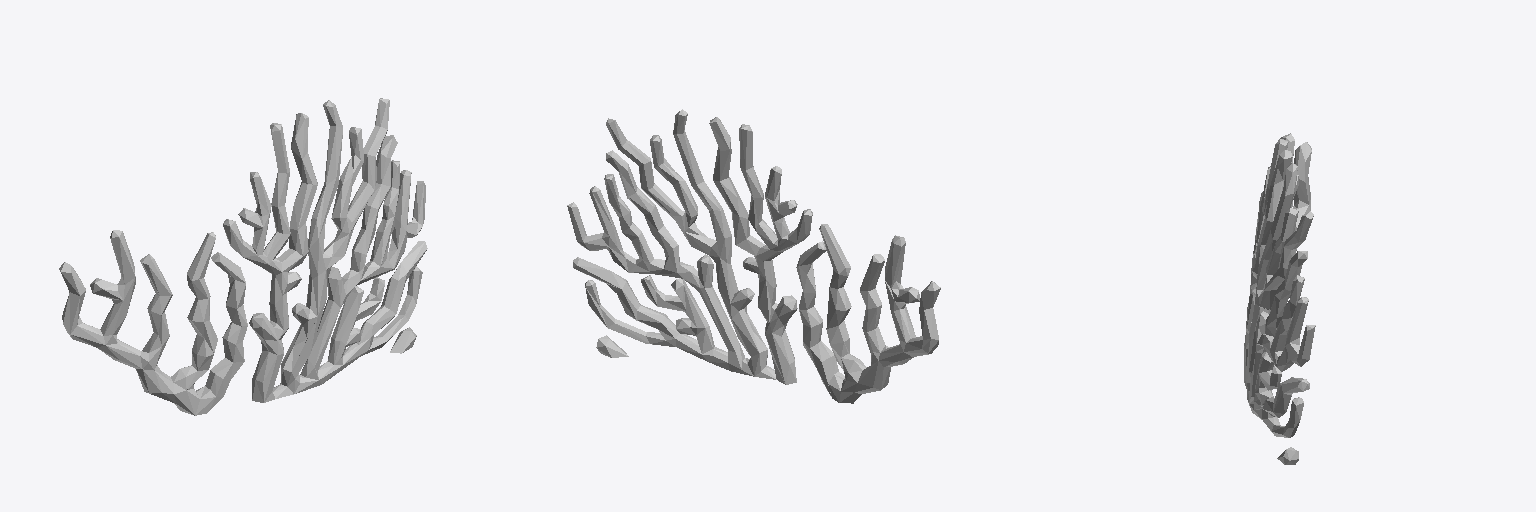
Rendered from Coral.obj.
3 views of the same model, side by side, from view 1: azimuth 30°, elevation 25°; view 2: azimuth 150°, elevation 25°; view 3: azimuth 270°, elevation 25° (orthographic).
Visible parts, largest first — view 1: 21487_Gorgonian_Soft_Coral_v1_cut3; view 2: 21487_Gorgonian_Soft_Coral_v1_cut3; view 3: 21487_Gorgonian_Soft_Coral_v1_cut3.
Boxes of the visible parts, box(x1,y1,x2,y2) form: 21487_Gorgonian_Soft_Coral_v1_cut3: box(59, 98, 427, 415); 21487_Gorgonian_Soft_Coral_v1_cut3: box(567, 109, 940, 403); 21487_Gorgonian_Soft_Coral_v1_cut3: box(1244, 133, 1315, 464).
Size of the model in its own units: 60 by 41.06 by 10.08.